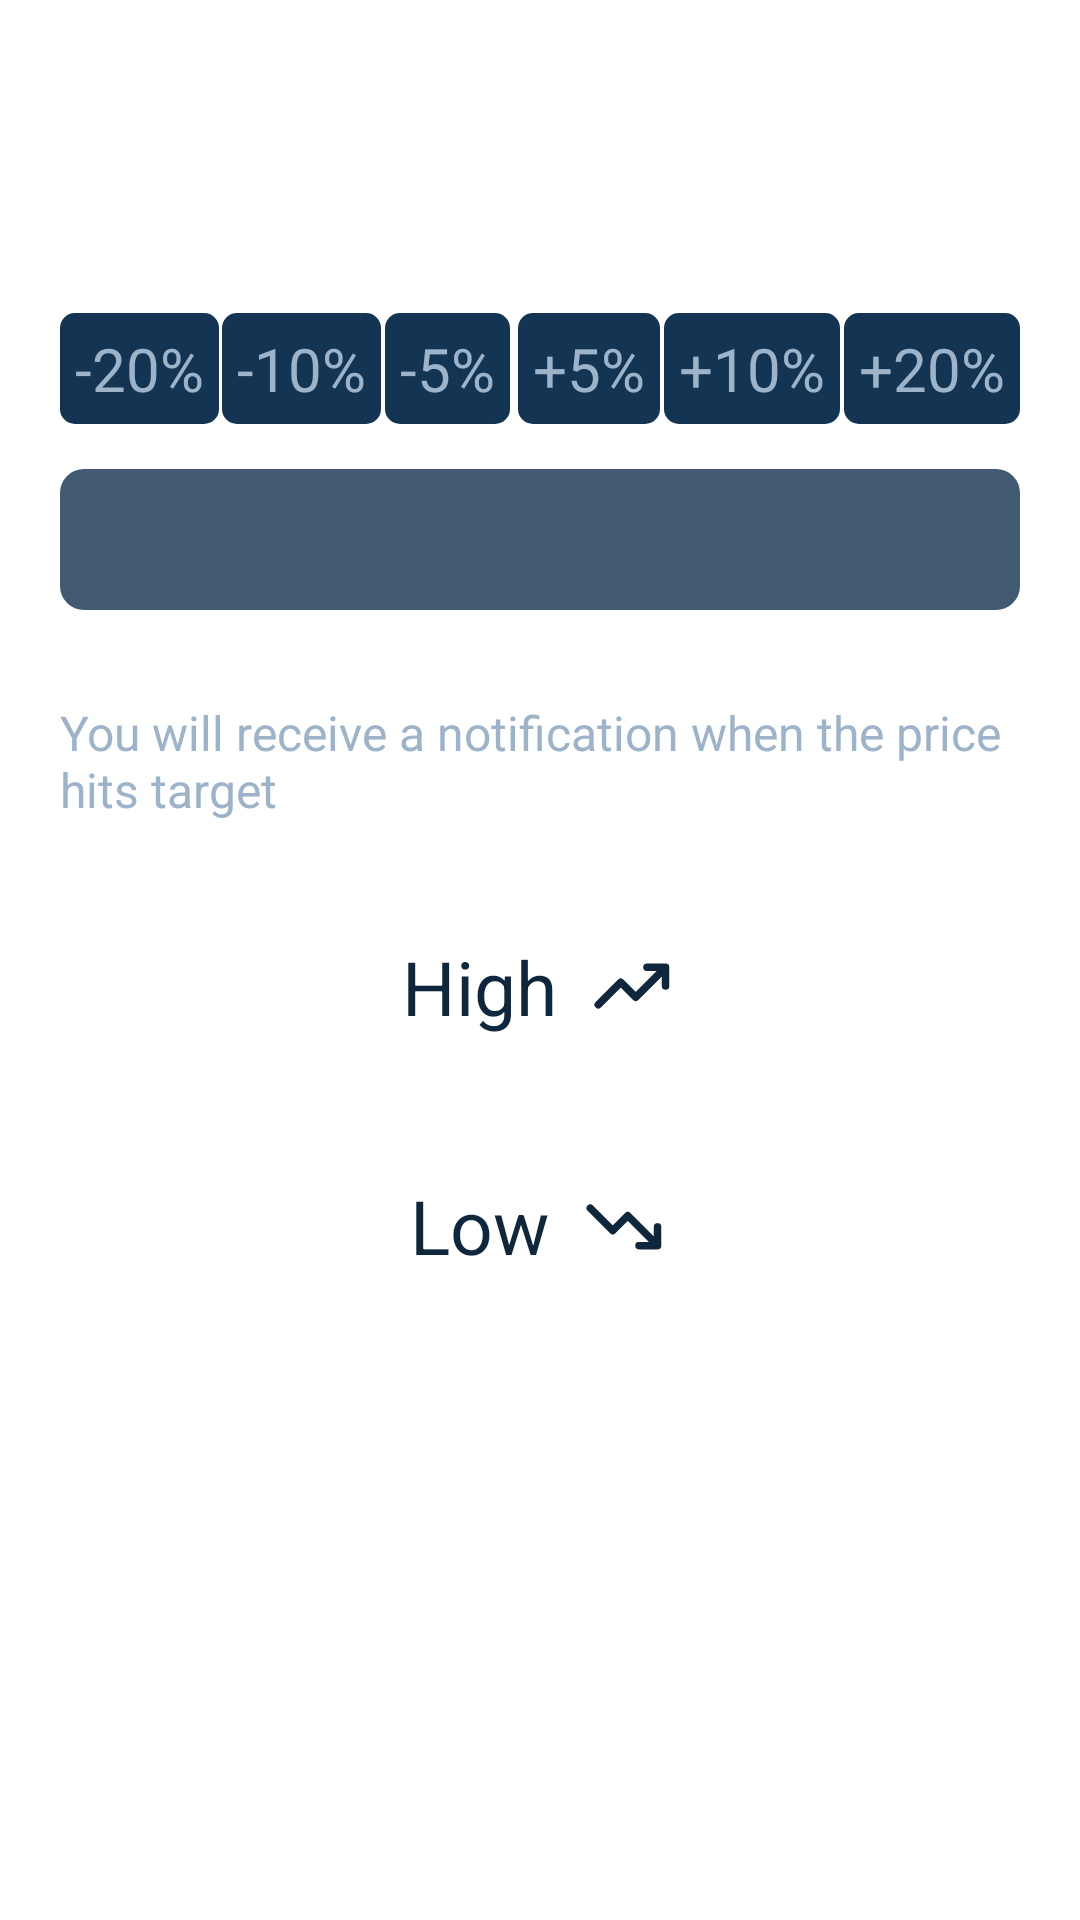

Screen size 1080*1920. Icon name, then its box in pixels as (x1, y1, x2, y2):
trending down: (586, 1204, 662, 1250)
trending up: (594, 963, 670, 1009)
